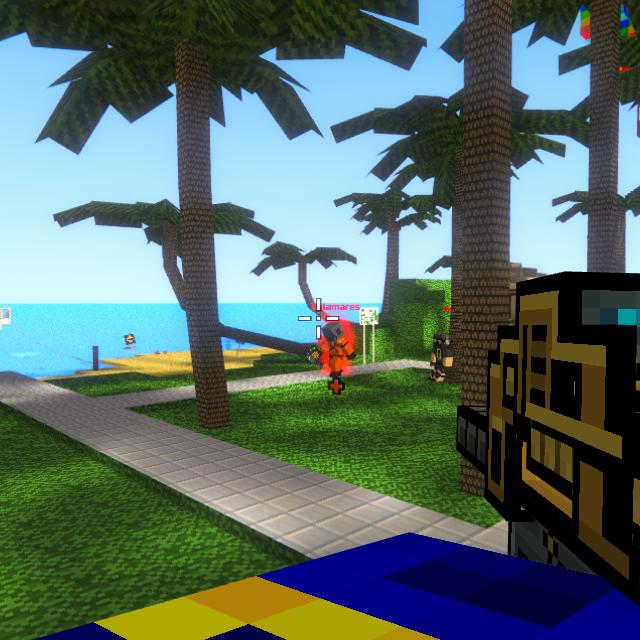Enemy: (319, 320, 348, 377)
